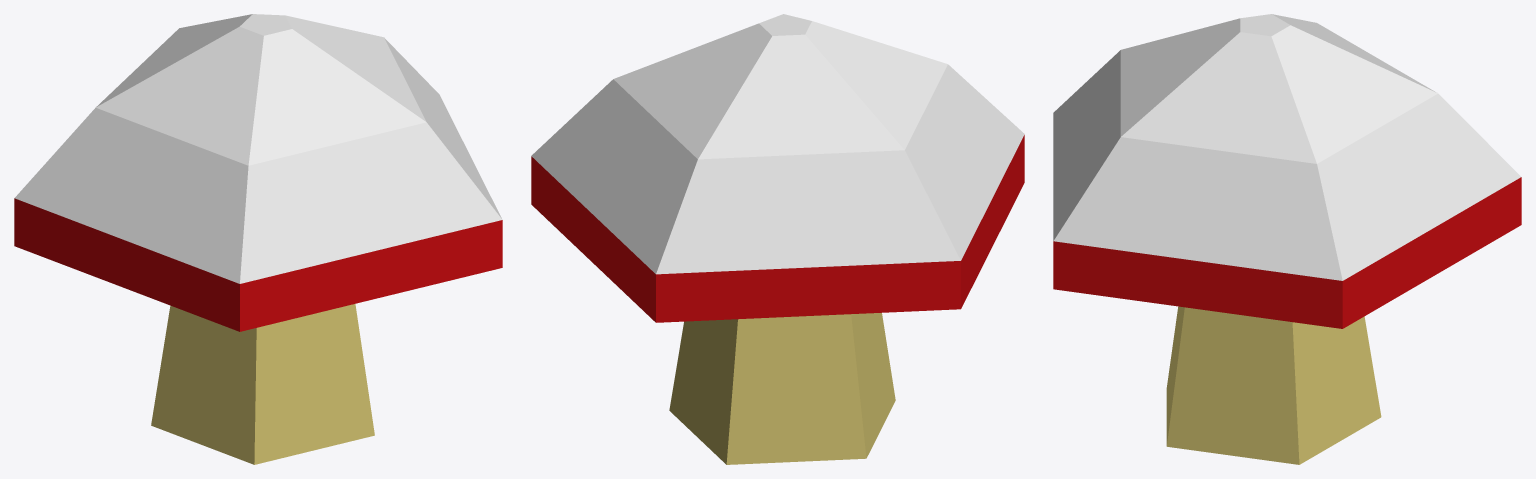
File: Mushroom_1_Snow.fbx
3 renders of one model, left to right at view 1: azimuth 30°, elevation 25°; view 2: azimuth 150°, elevation 25°; view 3: azimuth 270°, elevation 25°, orthographic.
Parts seen in each view (by area): view 1: Mushroom_1_Snow; view 2: Mushroom_1_Snow; view 3: Mushroom_1_Snow.
Boxes of the visible parts, x1,y1,x2,y2 form: Mushroom_1_Snow: [14, 14, 502, 464]; Mushroom_1_Snow: [531, 14, 1024, 464]; Mushroom_1_Snow: [1053, 14, 1521, 464].
Bounding box in the file's own units: 39.11 × 34.38 × 37.2.
